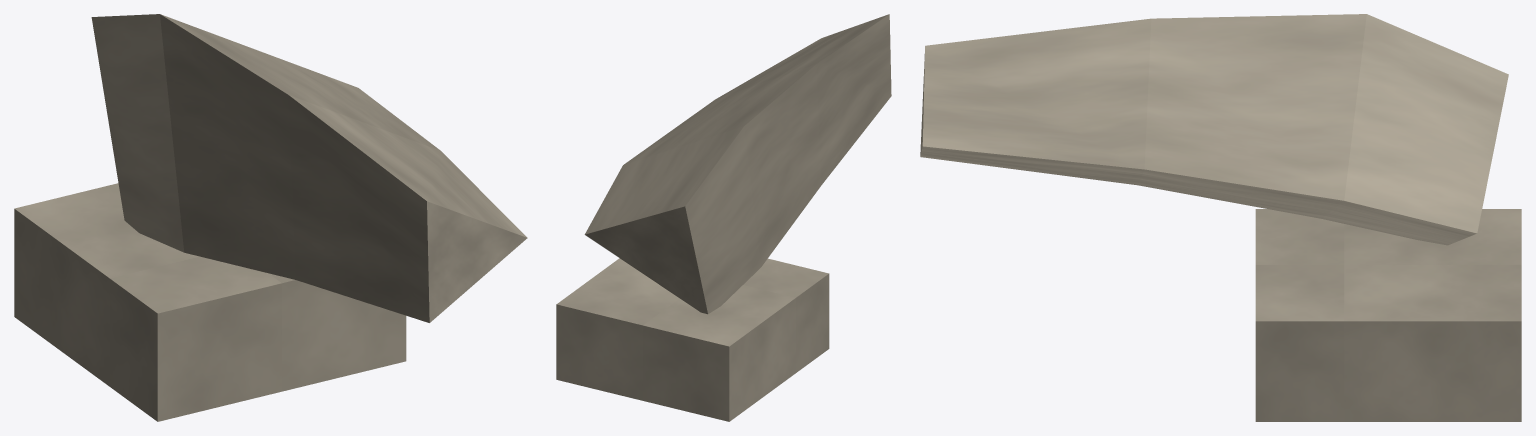
Rendered from Gargoyle_1_LOD2.gltf.
3 renders of one model, left to right at view 1: azimuth 30°, elevation 25°; view 2: azimuth 150°, elevation 25°; view 3: azimuth 270°, elevation 25°, orthographic. The views are drawn at different scales.
Visible parts, largest first — view 1: Gargoyle_1_LOD2; view 2: Gargoyle_1_LOD2; view 3: Gargoyle_1_LOD2.
Boxes of the visible parts, x1,y1,x2,y2 form: Gargoyle_1_LOD2: (14,14,527,421); Gargoyle_1_LOD2: (556,14,891,421); Gargoyle_1_LOD2: (920,14,1521,421).
Size of the model in its own units: 0.6 by 0.8073 by 1.36.
Materials: 1 (1 with a texture image).
